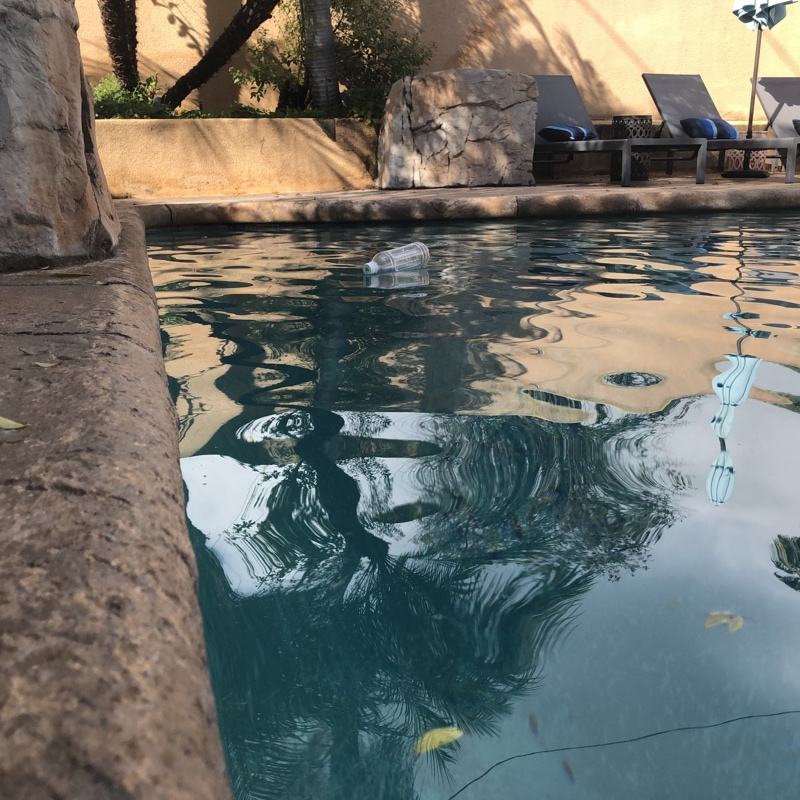Plastic Bottle: (361, 241, 435, 278)
